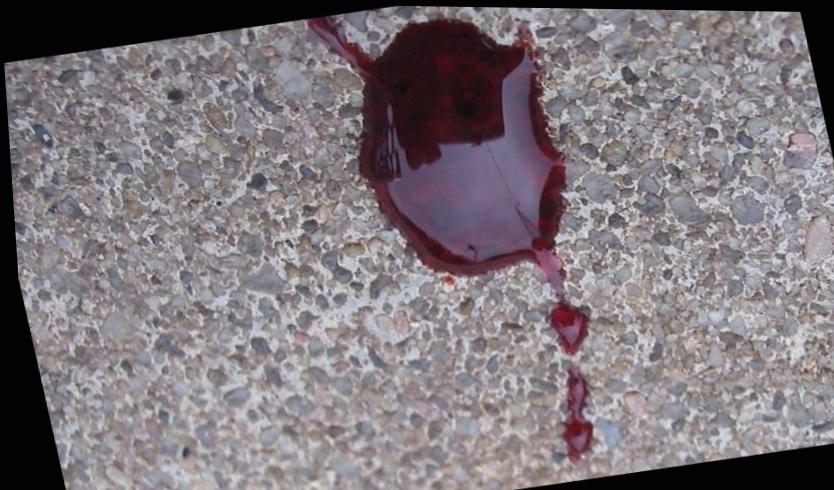Fire: (305, 15, 587, 355), (556, 364, 588, 464)
